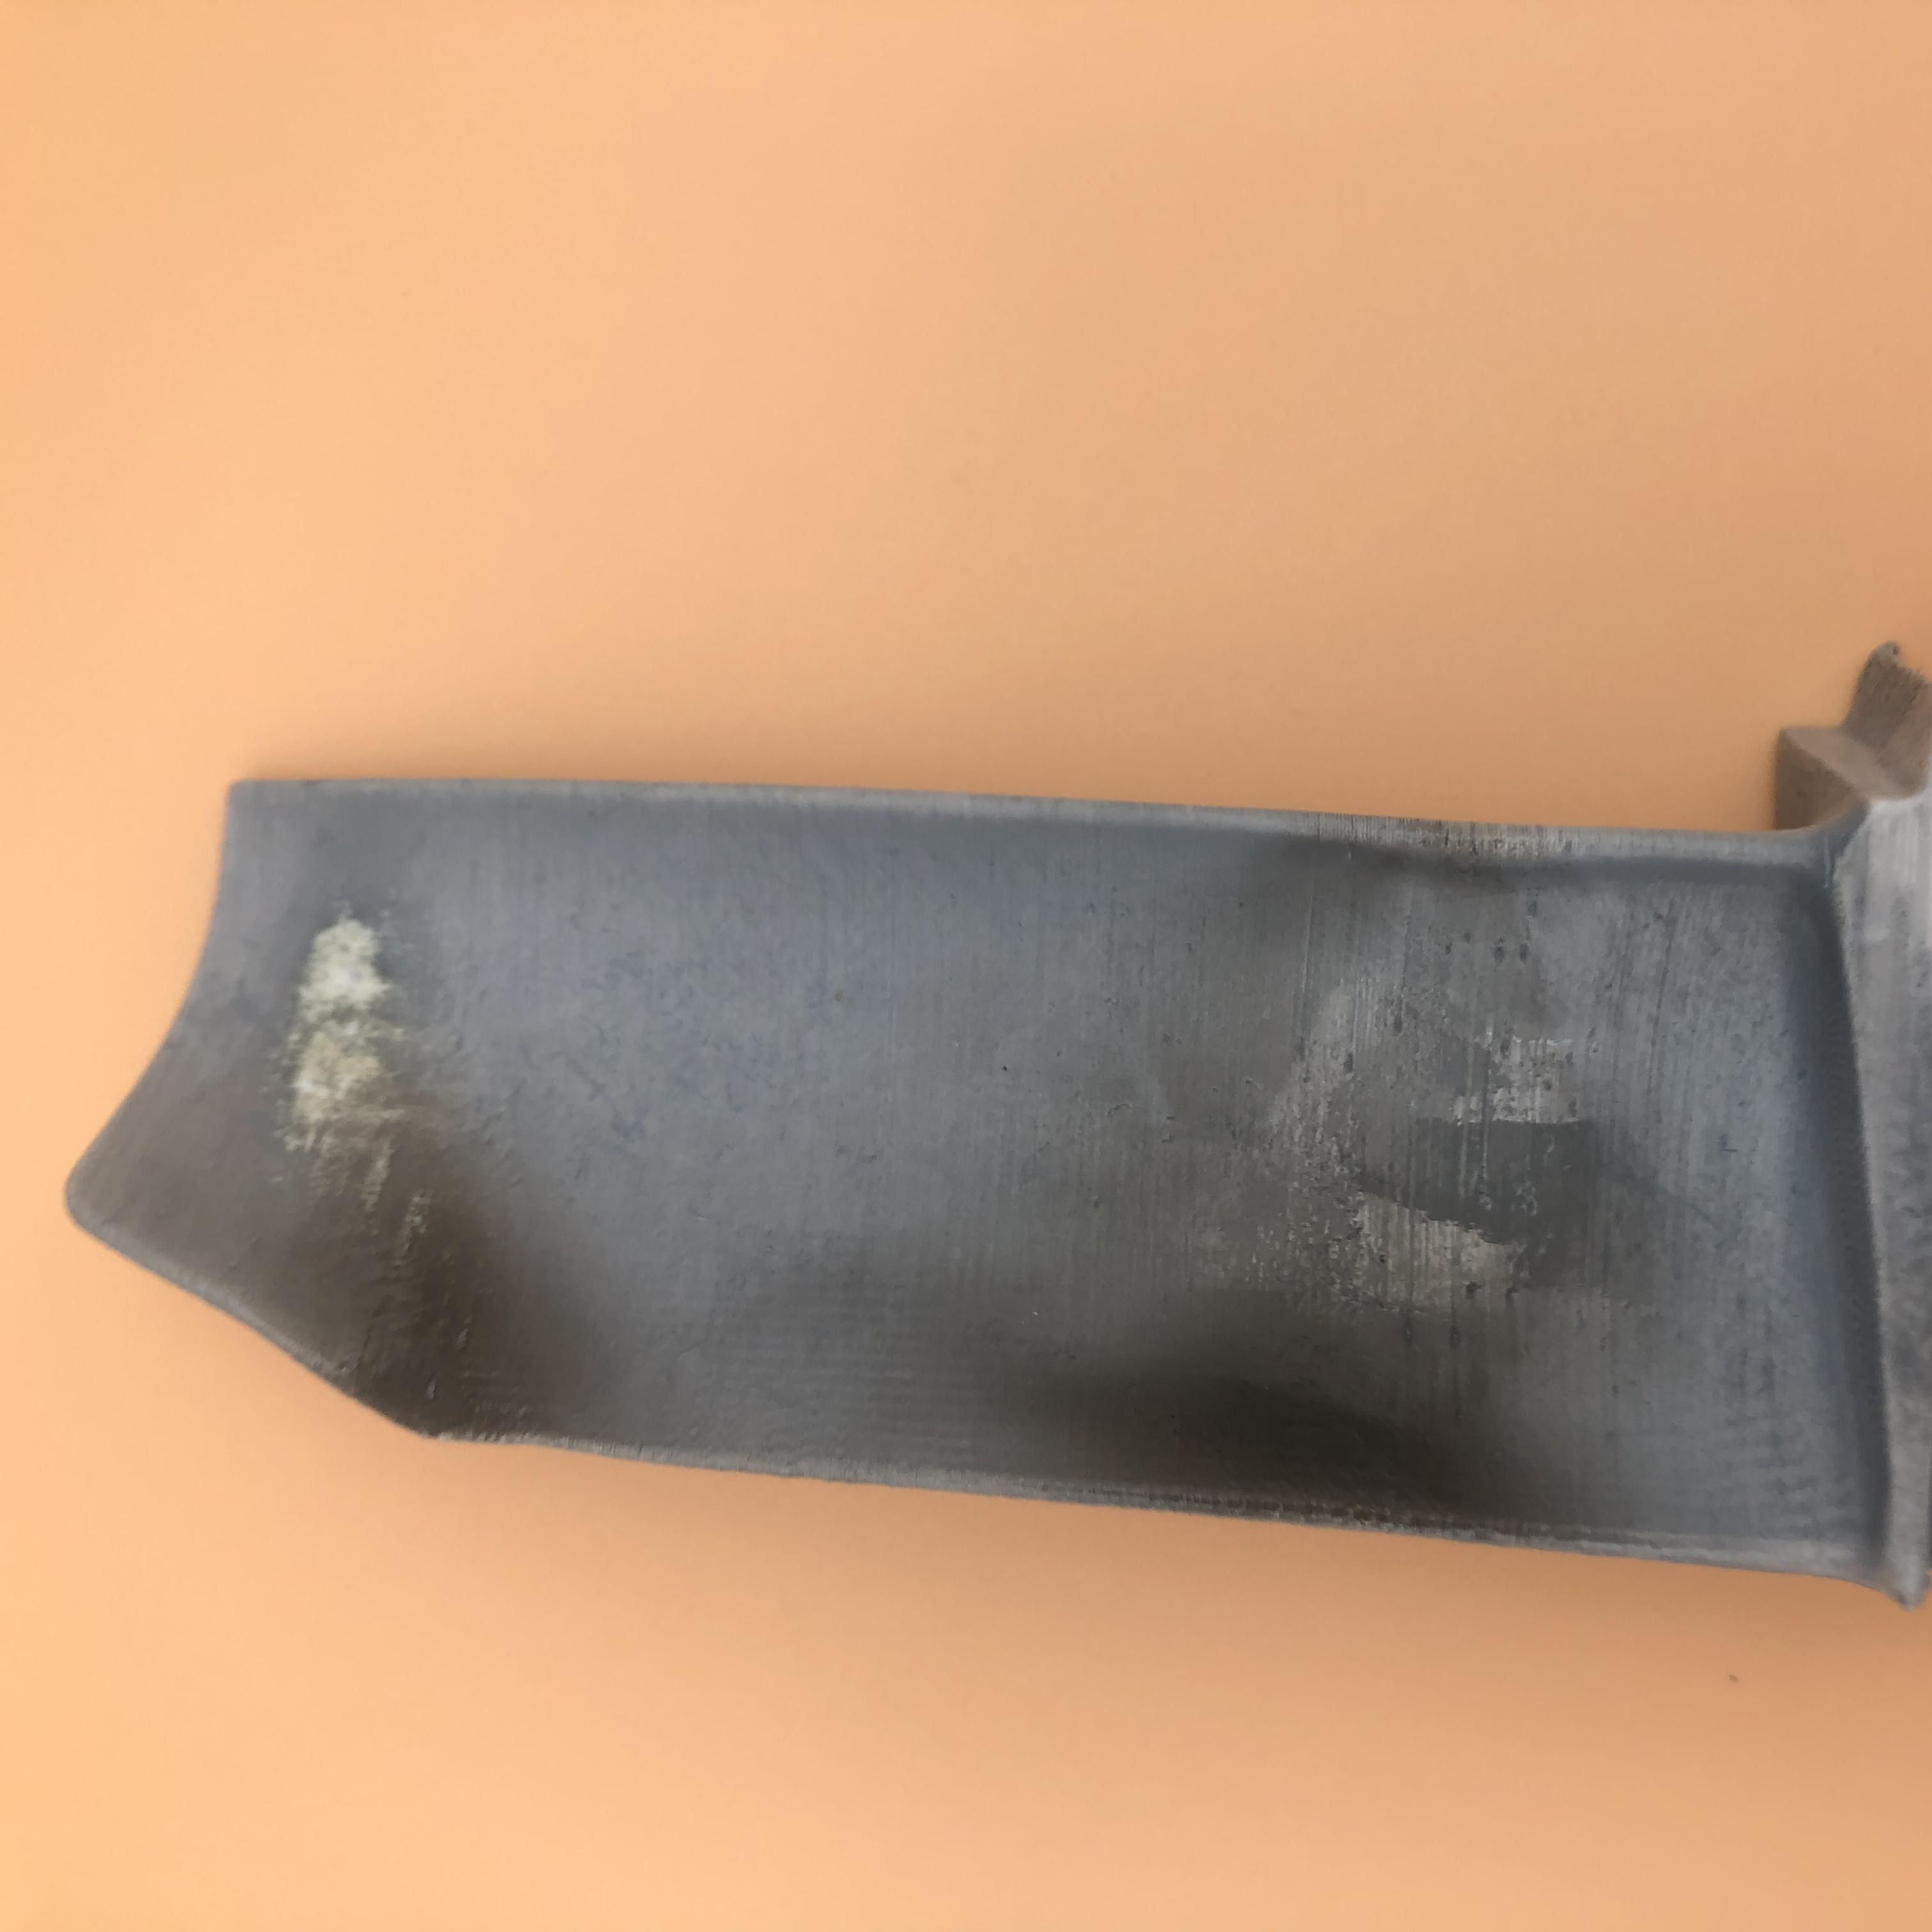ablation: (1180, 832, 1635, 1555), (271, 908, 593, 1421)
